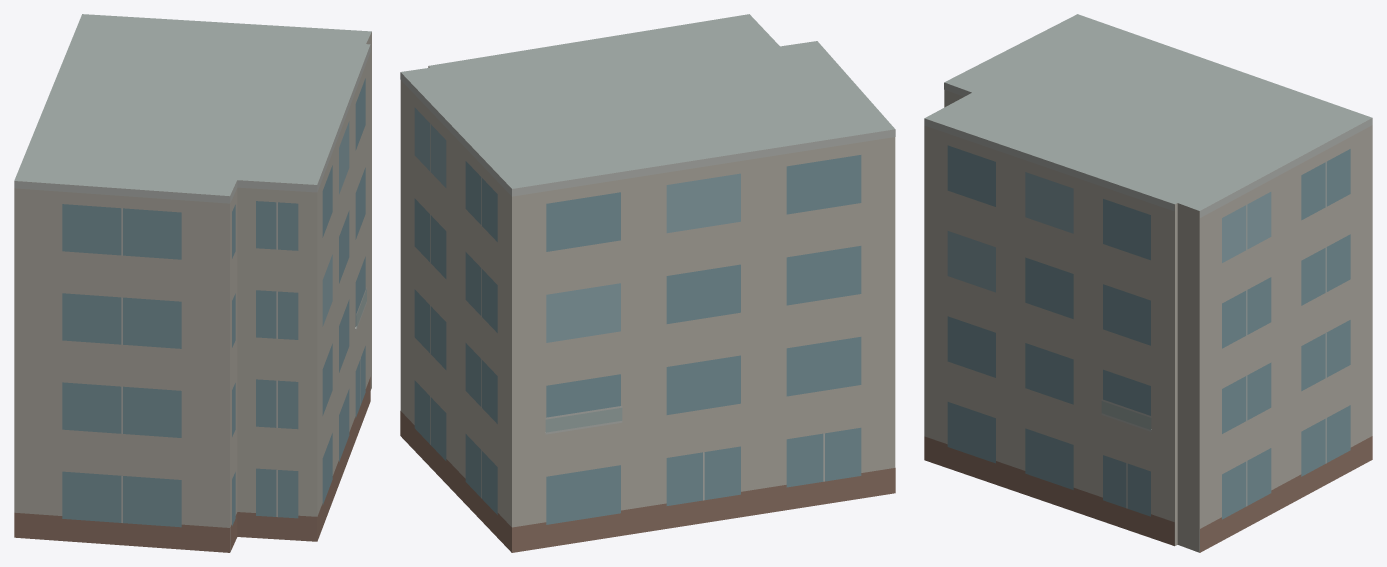
The model's file is survey-upis-33040155.glb.
The picture shows the model from 3 angles, left to right: view 1: azimuth 30°, elevation 25°; view 2: azimuth 150°, elevation 25°; view 3: azimuth 270°, elevation 25°; orthographic projection. The views are drawn at different scales.
Visible parts, largest first — view 1: survey-upis-33040155.tmp; view 2: survey-upis-33040155.tmp; view 3: survey-upis-33040155.tmp.
Part boxes in pixels (bbox=[...]): survey-upis-33040155.tmp: bbox=[14, 14, 371, 552]; survey-upis-33040155.tmp: bbox=[400, 14, 895, 552]; survey-upis-33040155.tmp: bbox=[924, 14, 1372, 552].
Size of the model in its own units: 14.35 by 11.6 by 13.8.
